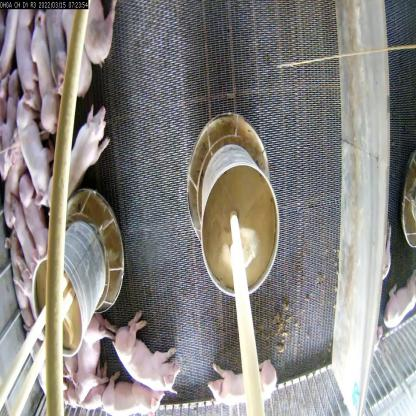Pig: (110, 311, 184, 392), (53, 104, 112, 180), (12, 95, 52, 205), (23, 15, 64, 118), (68, 324, 115, 408), (207, 362, 283, 412), (4, 206, 40, 286), (16, 169, 46, 264), (101, 372, 160, 415)
